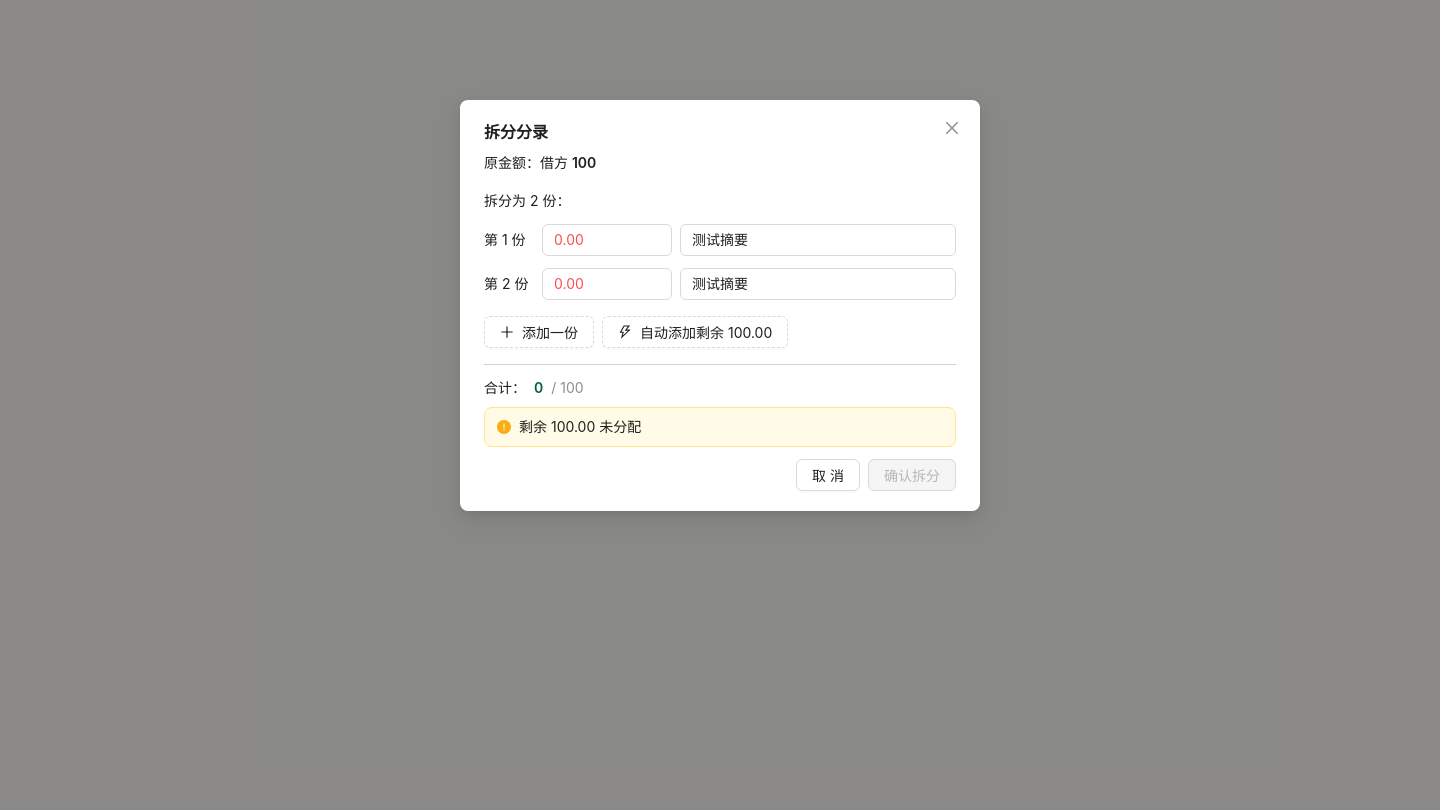
Test: SplitEntryModal › enables confirm button when all parts have positive amounts and no over-limit
The width and height of the screenshot is (1440, 810).
# Set both parts to 50
Step 1. Replace the text in the 1st number field with "50" → (607, 240), box [543,225,671,255]
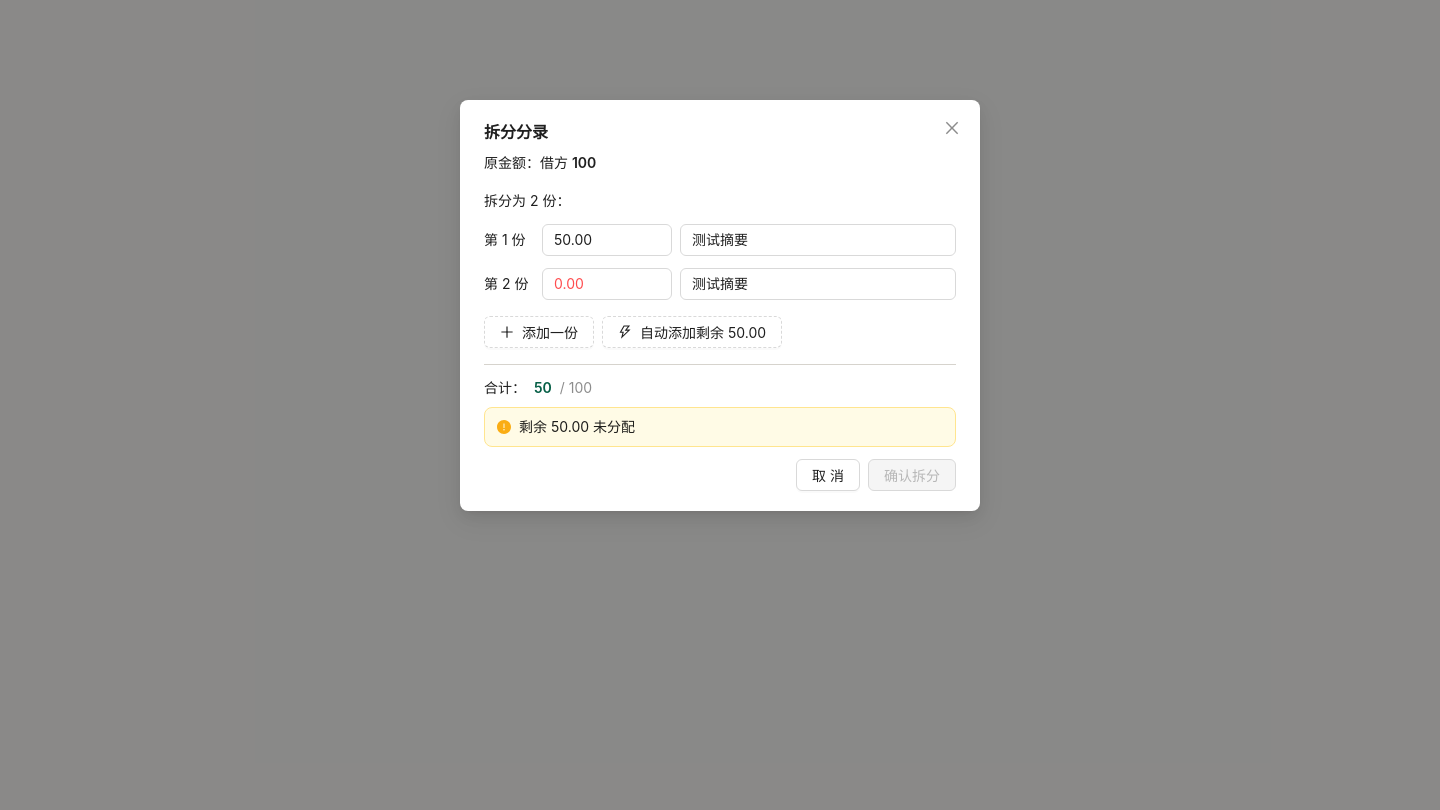
Step 2. Replace the text in the 2nd number field with "50" → (607, 284), box [543,269,671,299]
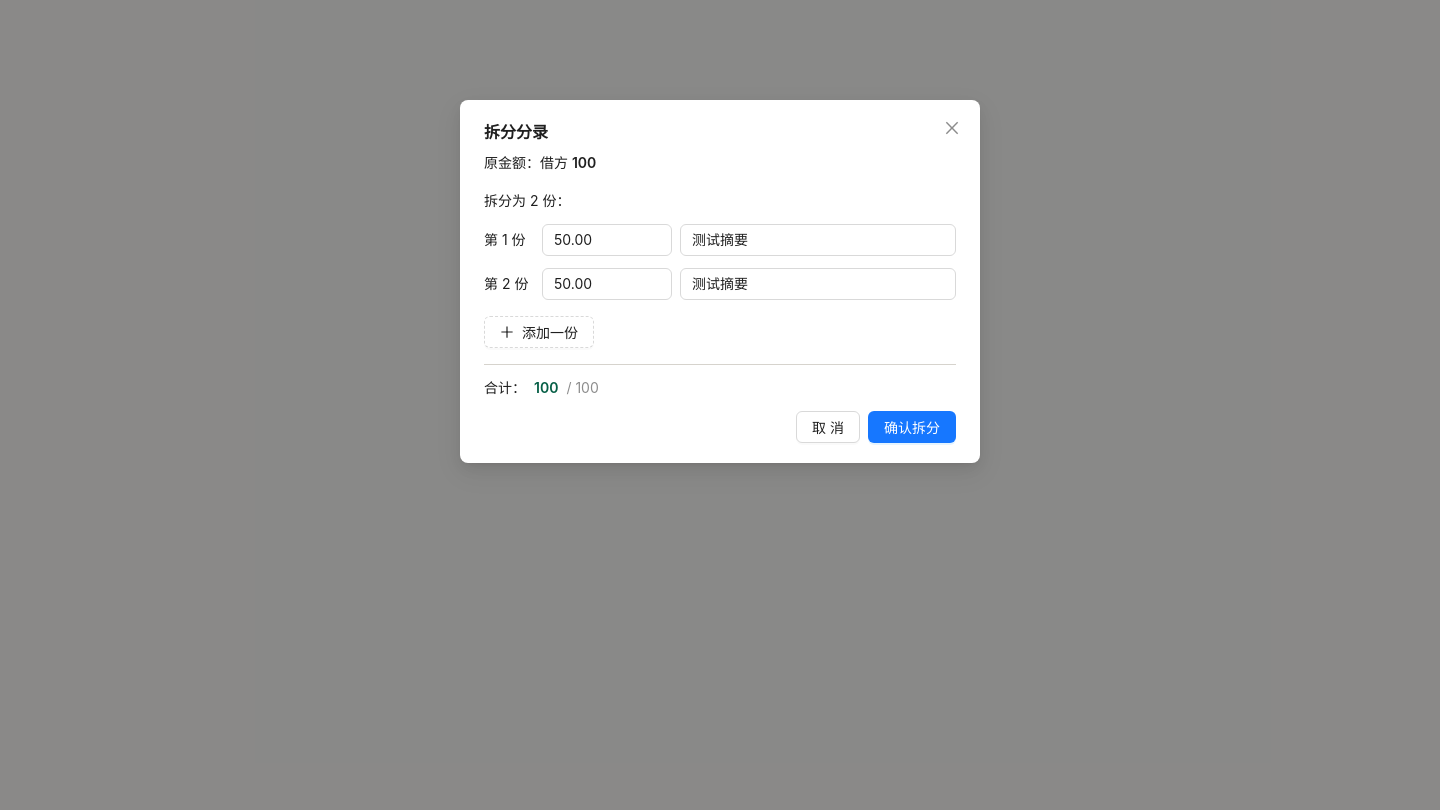
Expected: the button "确认拆分" is enabled, [868,411,956,443]
